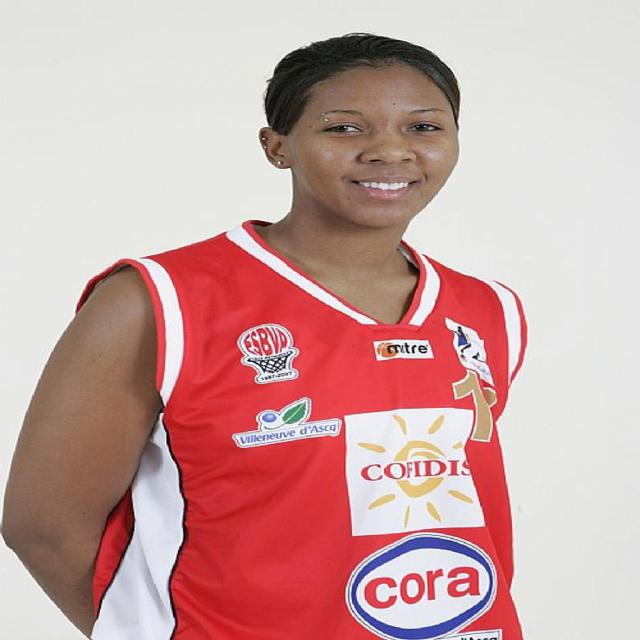Face: (283, 57, 479, 254)
